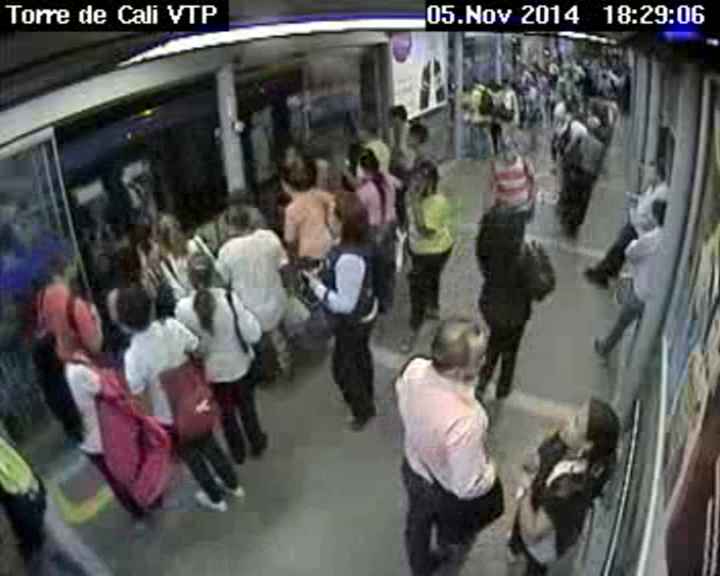person: (554, 386, 624, 468), (425, 314, 496, 380), (110, 282, 156, 336), (22, 321, 70, 372), (325, 191, 369, 245), (481, 202, 522, 243), (180, 251, 218, 295), (273, 138, 316, 169), (43, 246, 80, 281), (216, 205, 254, 235), (147, 213, 182, 245), (276, 165, 312, 193), (496, 135, 526, 165), (414, 158, 440, 192), (647, 200, 671, 228), (357, 152, 383, 177), (383, 103, 408, 125), (361, 118, 380, 143), (405, 126, 426, 148), (643, 158, 660, 182), (591, 122, 605, 138), (576, 108, 588, 124), (555, 89, 567, 103), (567, 99, 578, 112), (469, 77, 483, 87), (501, 76, 510, 89), (487, 79, 495, 89)
